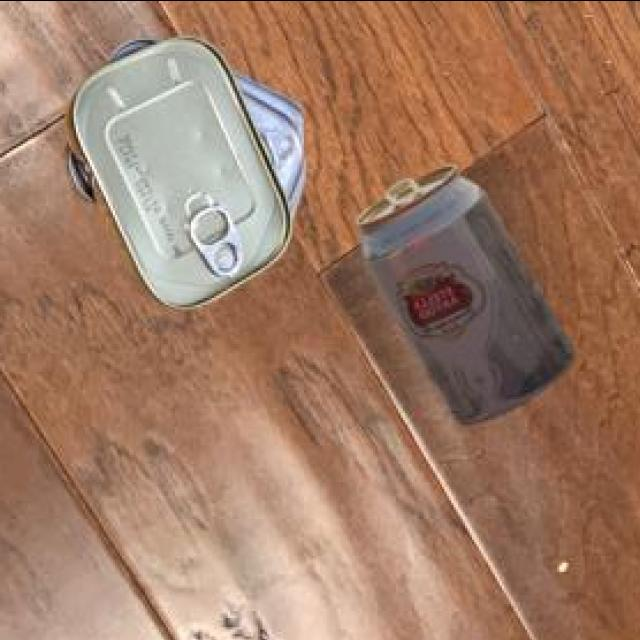logam: (68, 38, 310, 312), (360, 167, 577, 427)
